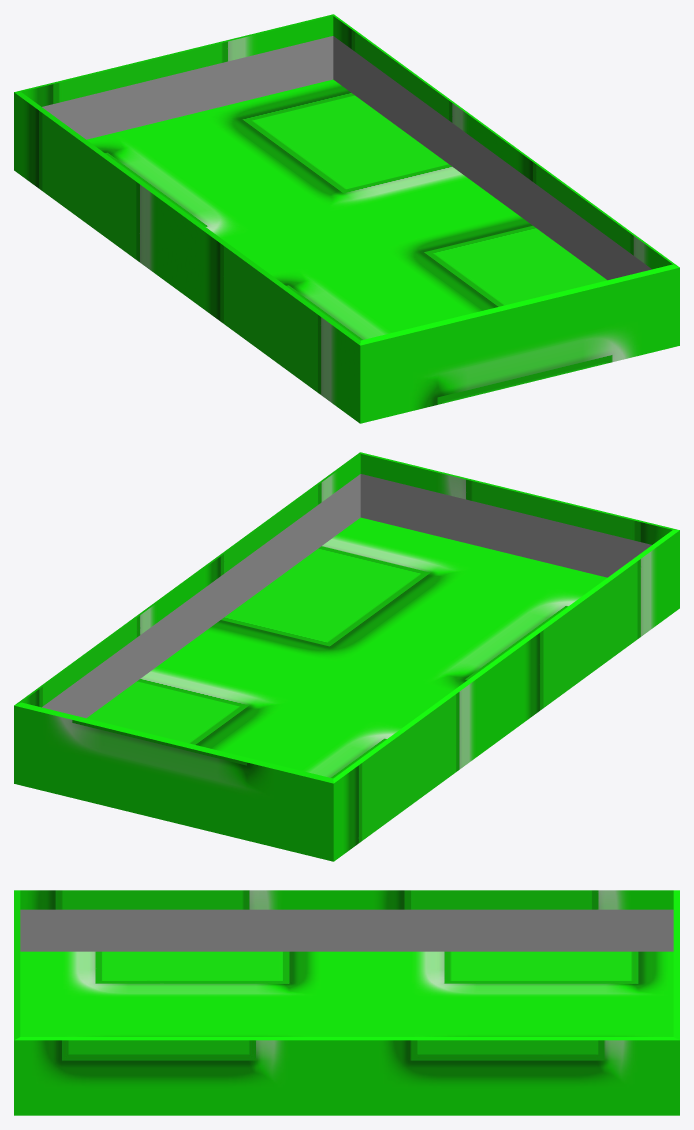
Rendered from Ground.fbx.
3 renders of one model, top to bottom at view 1: azimuth 30°, elevation 25°; view 2: azimuth 150°, elevation 25°; view 3: azimuth 270°, elevation 25°, orthographic. The views are drawn at different scales.
Visible parts, largest first — view 1: Ground; view 2: Ground; view 3: Ground.
Part boxes in pixels (x1,y1,x2,y2): Ground: (14,14,679,423); Ground: (14,452,679,861); Ground: (14,890,679,1115).
Bounding box in the file's own units: 5122 × 1223 × 9606.
3 materials, 1 textured.
